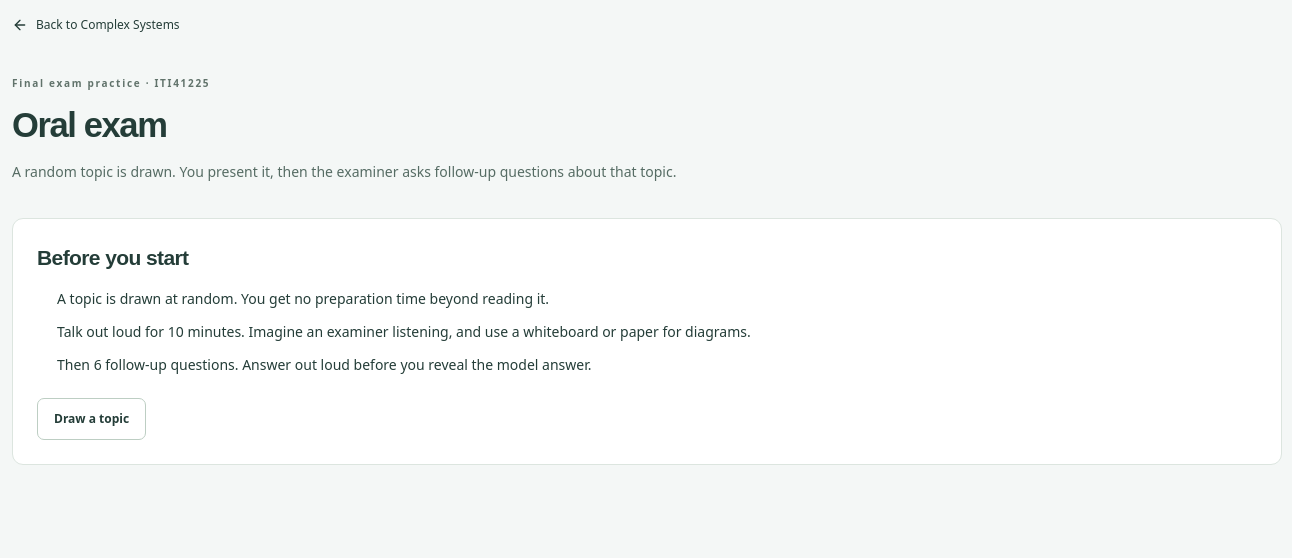
Test: draws an oral topic, times the presentation, then asks follow-ups
Later steps or results of the test are not shown.
Click the button "Draw a topic" at point(92, 419), box [37,398,146,440]
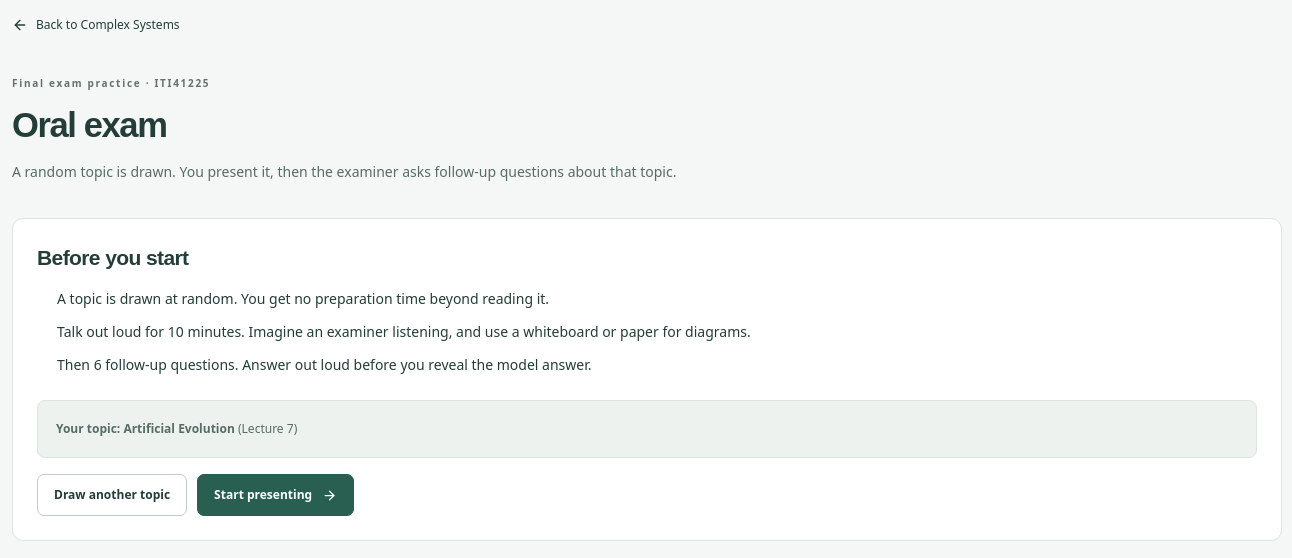
expect the text "Your topic: Artificial Evolution" is shown: met, box [56,420,235,437]
Click the button "Start presenting" at point(276, 495), box [197,474,354,516]
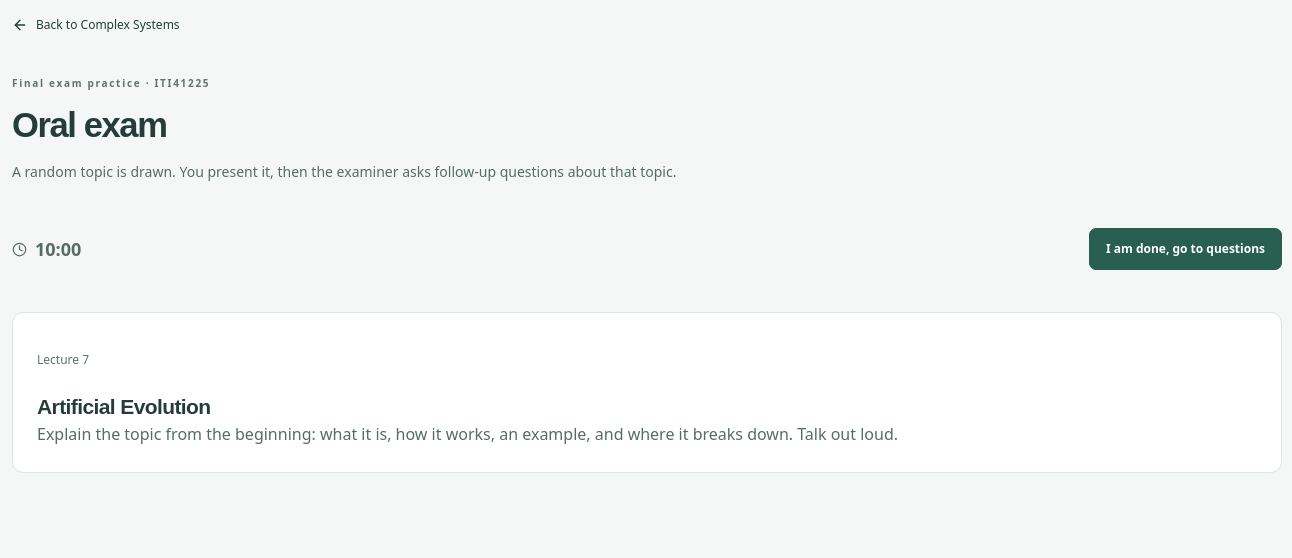
expect the element showing "10:00" is shown: met, box [12,234,81,265]
